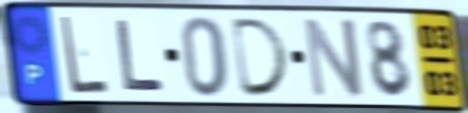0: (178, 13, 231, 100)
8: (365, 17, 416, 100)
D: (229, 15, 294, 99)
L: (58, 13, 111, 96), (113, 17, 168, 94)
N: (301, 15, 367, 101)
